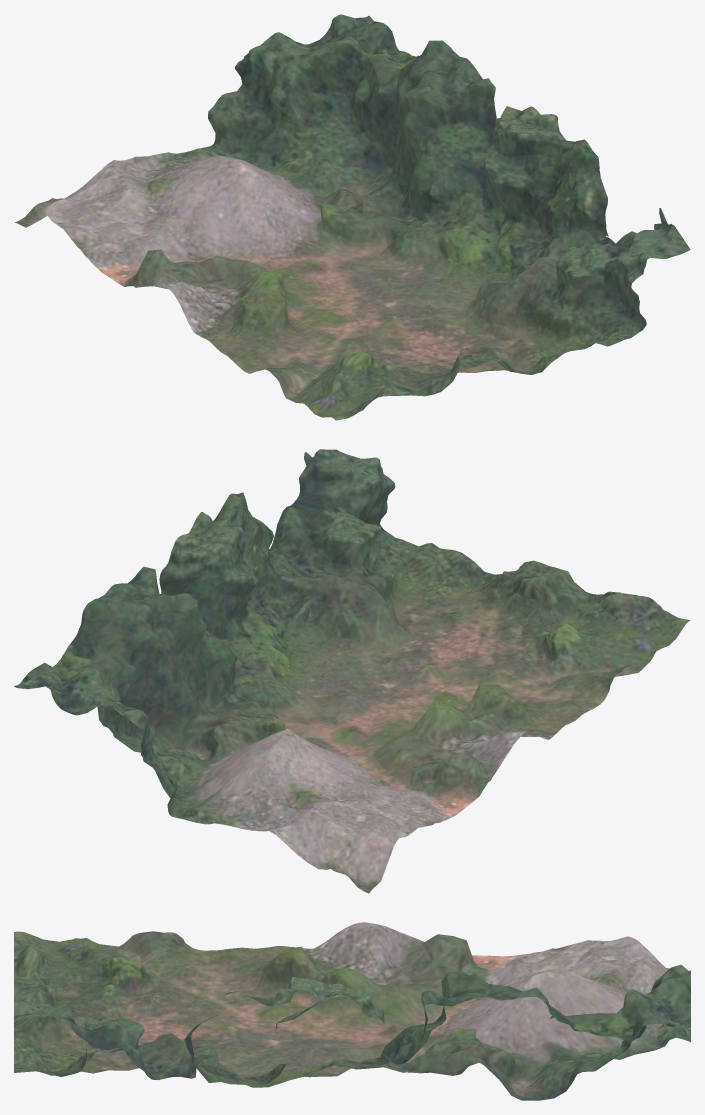
Rendered from Tile_+006_+007_L21_0001210.glb.
The picture shows the model from 3 angles, top to bottom: view 1: azimuth 30°, elevation 25°; view 2: azimuth 150°, elevation 25°; view 3: azimuth 270°, elevation 25°; orthographic projection. The views are drawn at different scales.
Visible parts, largest first — view 1: rtc; view 2: rtc; view 3: rtc.
Boxes of the visible parts, x1=… form: rtc: x1=15, y1=14, x2=690, y2=420; rtc: x1=14, y1=449, x2=690, y2=893; rtc: x1=14, y1=922, x2=690, y2=1100.
Size of the model in its own units: 16.01 by 6.8 by 25.13.
Materials: 1 (1 with a texture image).
